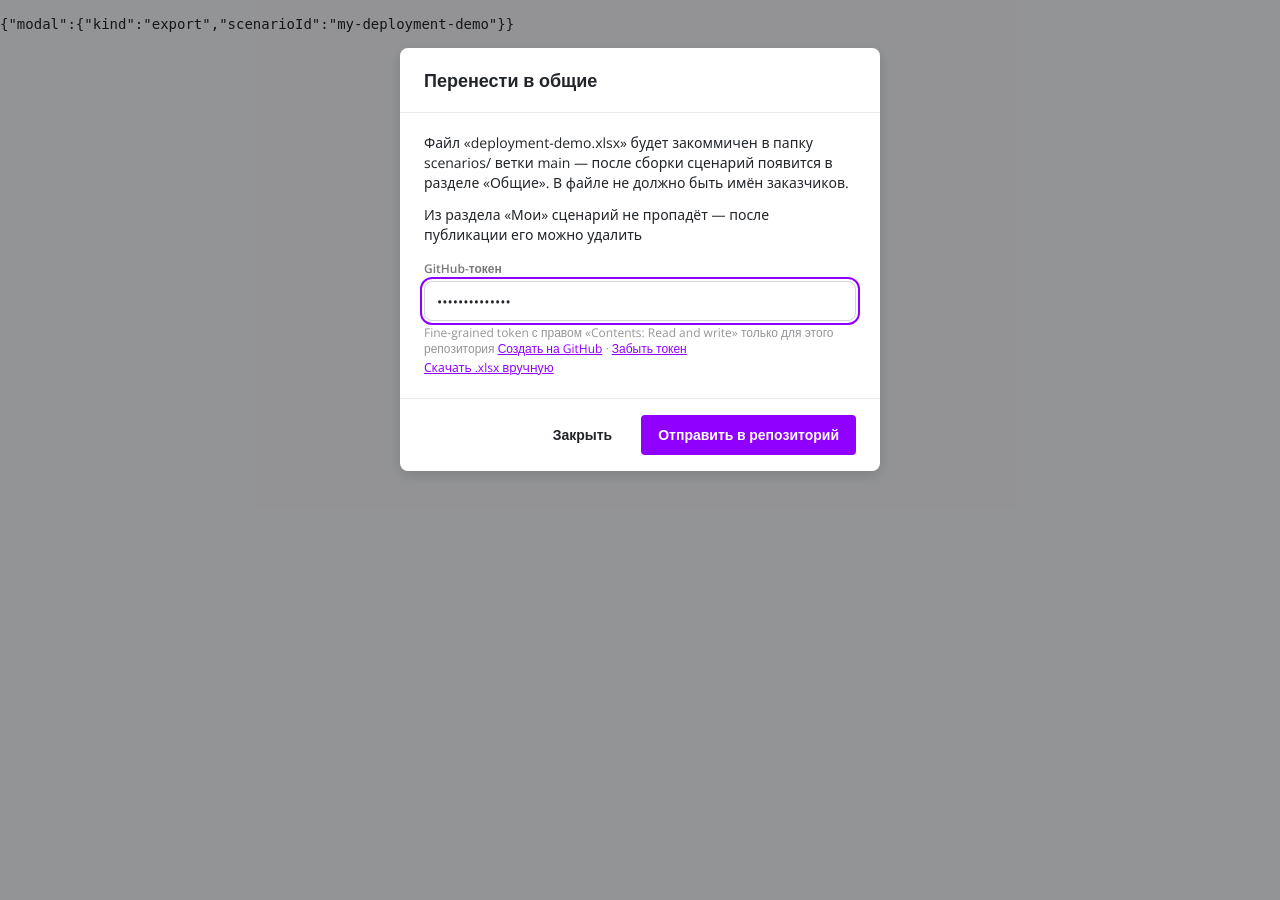
ExportDialog — отправка в репозиторий (SPEC §4.2:255, ТК 35) › 401/403: текст про токен, сохранённый токен забыт; введённое остаётся — можно исправить
Click the button "Отправить в репозиторий" at [749, 435], box [641, 415, 856, 455]
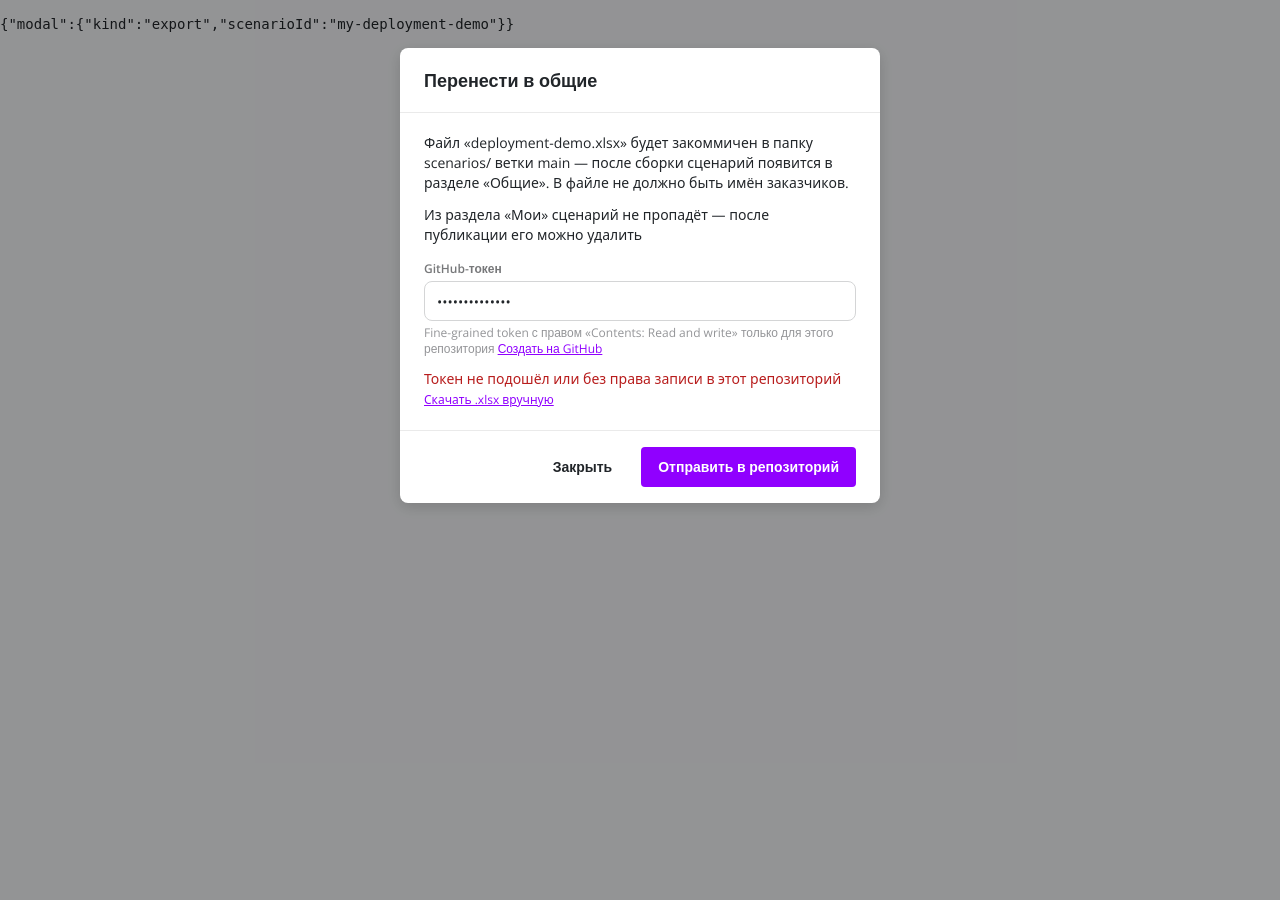
Expected: the password field labelled "GitHub-токен" holds "github_pat_bad", [424, 281, 856, 321]
Now the message reads "Токен не подошёл или без права записи в этот репозиторий", box [424, 369, 841, 388]
